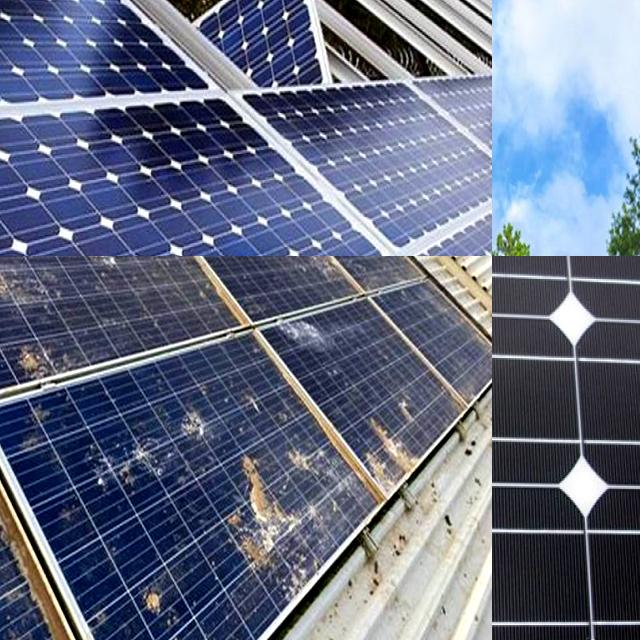bird: (116, 402, 206, 500), (361, 384, 427, 494), (226, 444, 282, 569), (10, 311, 70, 394), (124, 563, 185, 640), (0, 535, 35, 621), (0, 256, 46, 318), (288, 426, 334, 488), (0, 291, 20, 380), (78, 256, 129, 280), (0, 256, 25, 276)
crack: (0, 94, 382, 256), (244, 77, 492, 256)
shadow: (492, 475, 576, 640), (492, 256, 550, 299)
